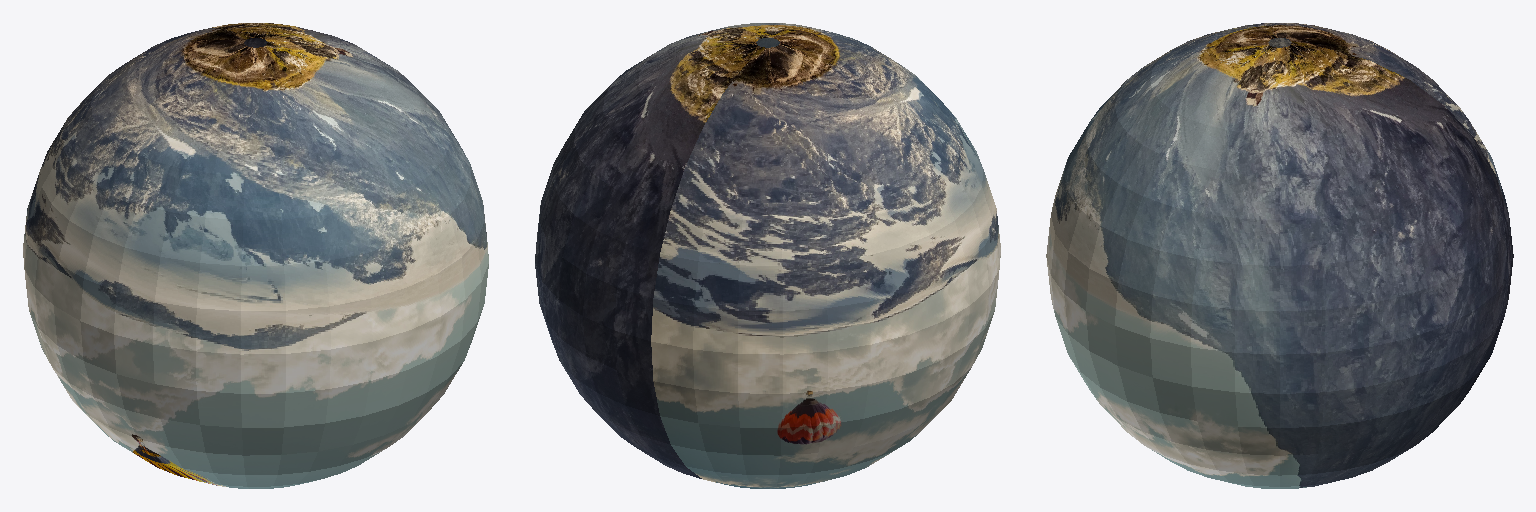
3 views of the same model, side by side, from view 1: azimuth 30°, elevation 25°; view 2: azimuth 150°, elevation 25°; view 3: azimuth 270°, elevation 25° (orthographic).
Visible parts, largest first — view 1: background; view 2: background; view 3: background.
Part boxes in pixels (x1,y1,x2,y2): background: (23,23,488,488); background: (535,23,1000,488); background: (1046,23,1513,488).
Size of the model in its own units: 20 by 20.13 by 20.
Materials: 1 (1 with a texture image).